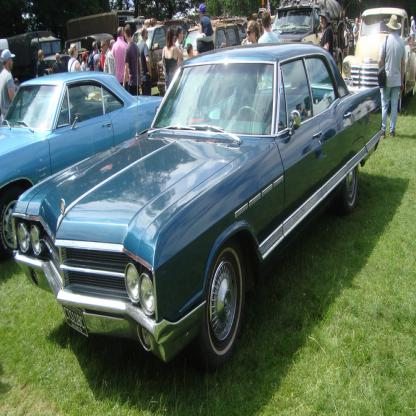Car: (0, 0, 415, 370)
